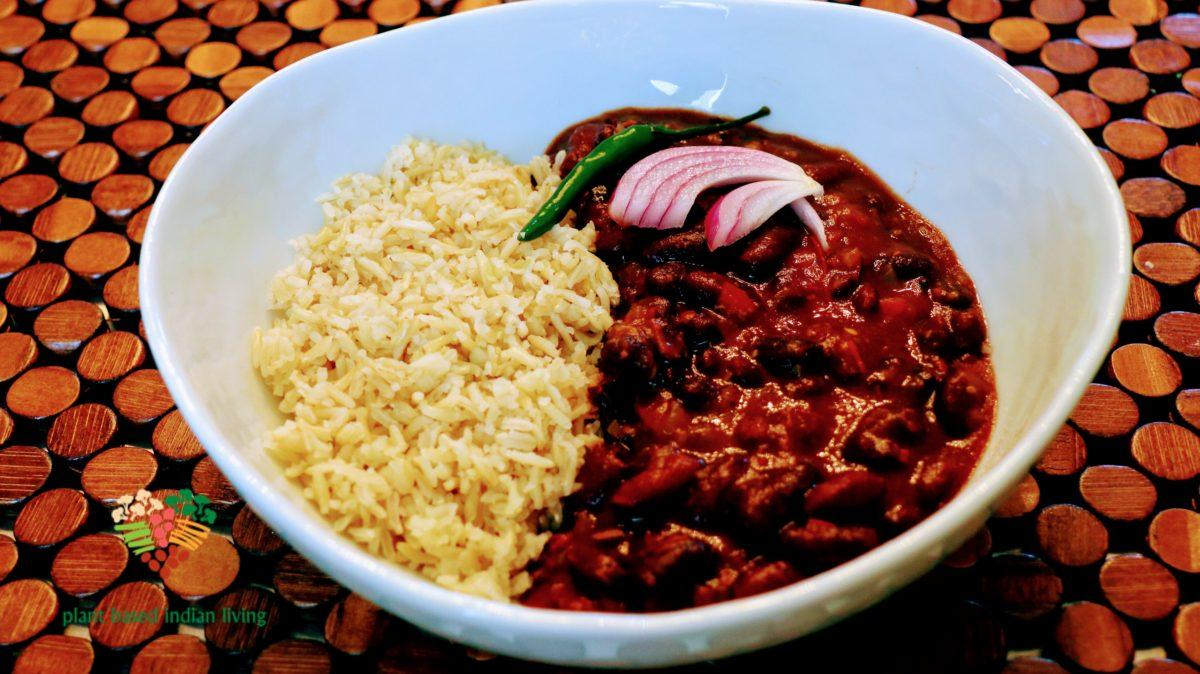rajma: (595, 110, 983, 578)
rice: (275, 168, 553, 593)
